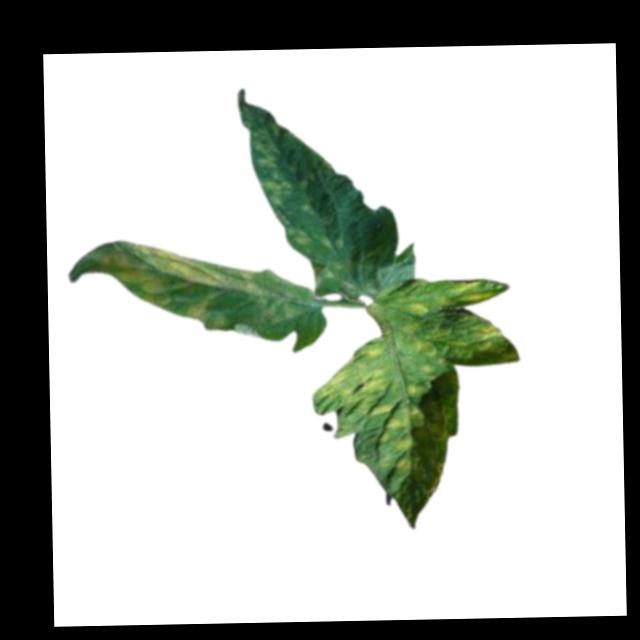Leaf_Mold: (312, 317, 523, 533), (96, 237, 265, 332), (250, 120, 298, 210), (437, 278, 494, 307)
